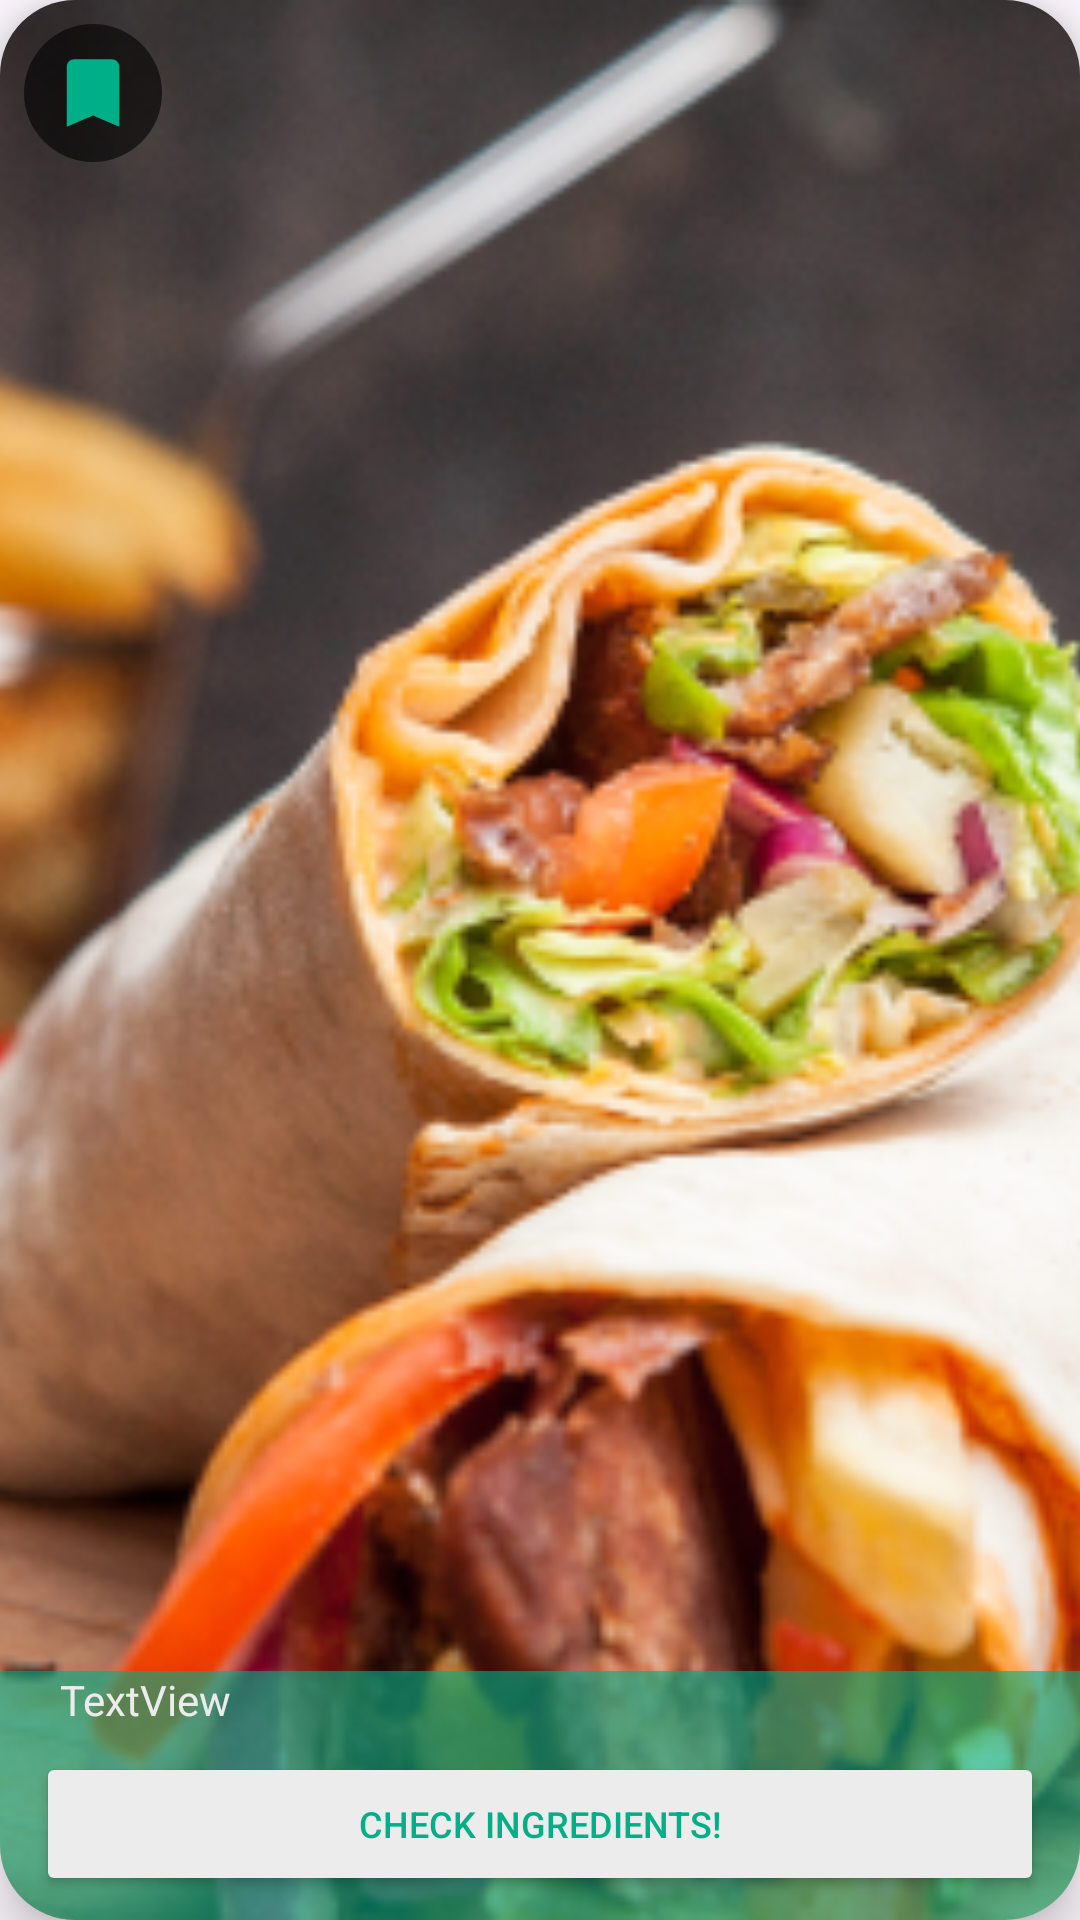

Where to tap for icons on this 1080*1920 app screen, as (x=x, y=y):
bookmark: (x=93, y=93)
